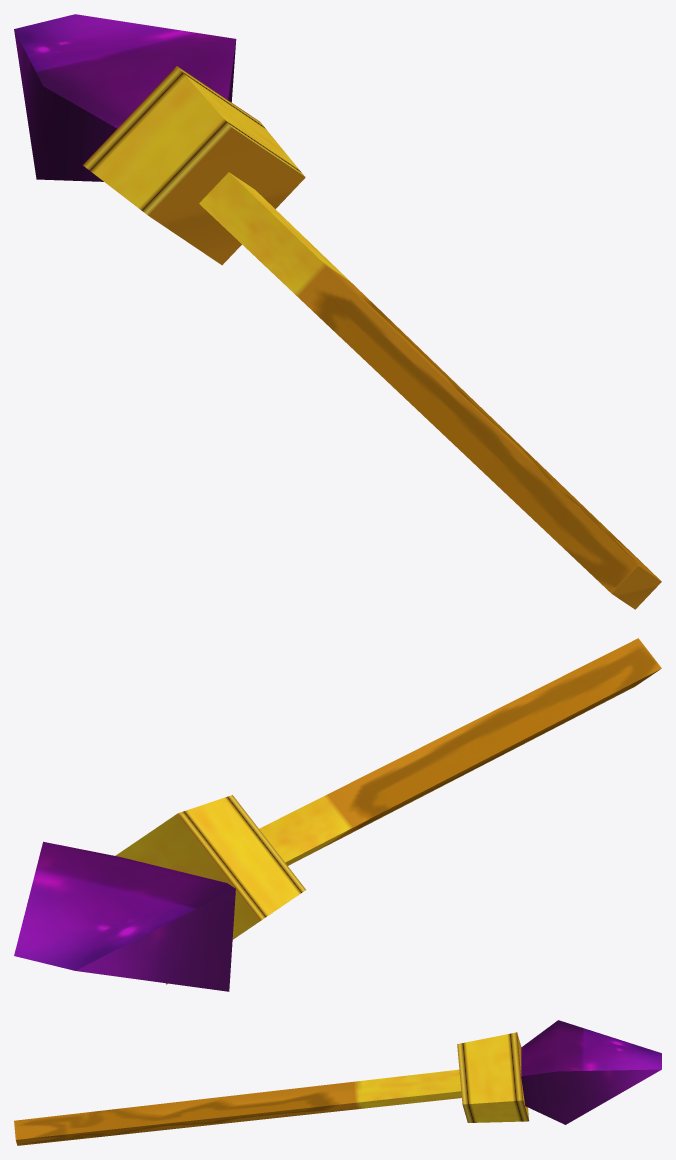
The model's file is staff1.FBX.
The picture shows the model from 3 angles, top to bottom: view 1: azimuth 30°, elevation 25°; view 2: azimuth 150°, elevation 25°; view 3: azimuth 270°, elevation 25°; orthographic projection. The views are drawn at different scales.
Parts seen in each view (by area): view 1: Box009; view 2: Box009; view 3: Box009.
Part boxes in pixels (bbox=[...]): Box009: bbox=[14, 14, 661, 609]; Box009: bbox=[14, 638, 661, 991]; Box009: bbox=[14, 1020, 661, 1145].
Size of the model in its own units: 20.77 by 21.43 by 111.
